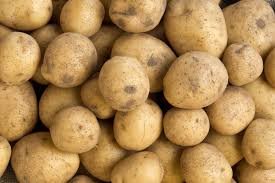potato: (162, 51, 229, 108), (42, 30, 97, 88), (99, 55, 151, 113), (50, 104, 100, 155)
